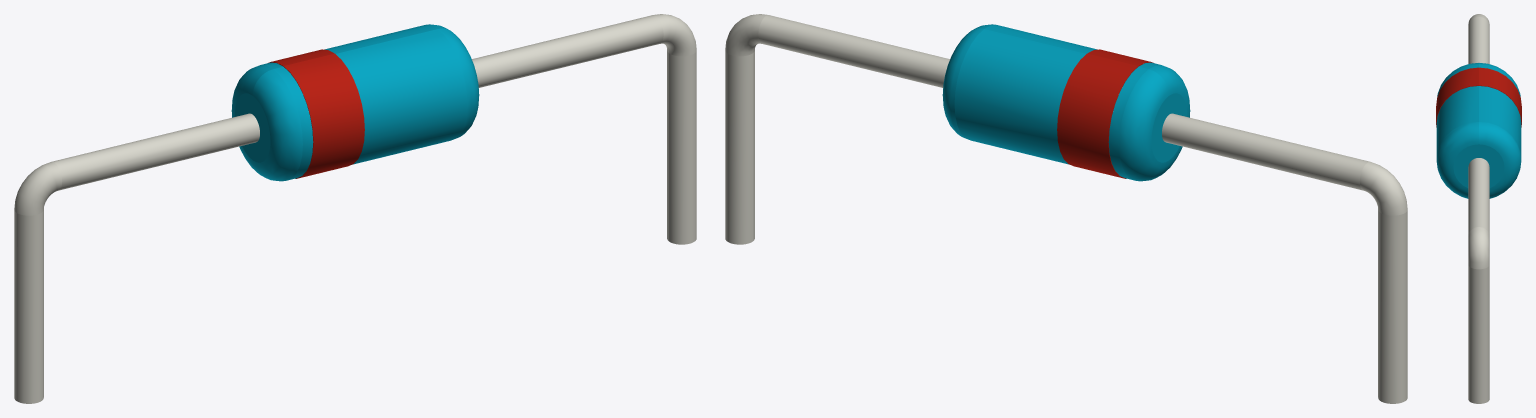
The model's file is kc-d_do-35_sod27_p12.70mm_horizontal.glb.
3 views of the same model, side by side, from view 1: azimuth 30°, elevation 25°; view 2: azimuth 150°, elevation 25°; view 3: azimuth 270°, elevation 25° (orthographic). The views are drawn at different scales.
Parts seen in each view (by area): view 1: 0.6666666666666666_0.6666666666666666_0.5833333333333334_0.8, 0_0.3333333333333333_0.5_0, 0.4166666666666667_0_0_0; view 2: 0.6666666666666666_0.6666666666666666_0.5833333333333334_0.8, 0_0.3333333333333333_0.5_0, 0.4166666666666667_0_0_0; view 3: 0_0.3333333333333333_0.5_0, 0.6666666666666666_0.6666666666666666_0.5833333333333334_0.8, 0.4166666666666667_0_0_0.
Boxes of the visible parts, <box> form: 0.6666666666666666_0.6666666666666666_0.5833333333333334_0.8: <box>14,14,696,403</box>; 0_0.3333333333333333_0.5_0: <box>231,24,479,181</box>; 0.4166666666666667_0_0_0: <box>268,49,364,178</box>; 0.6666666666666666_0.6666666666666666_0.5833333333333334_0.8: <box>725,14,1407,403</box>; 0_0.3333333333333333_0.5_0: <box>942,24,1190,181</box>; 0.4166666666666667_0_0_0: <box>1057,49,1153,178</box>; 0_0.3333333333333333_0.5_0: <box>1436,63,1521,198</box>; 0.6666666666666666_0.6666666666666666_0.5833333333333334_0.8: <box>1468,14,1489,403</box>; 0.4166666666666667_0_0_0: <box>1436,67,1521,127</box>.
Size of the model in its own units: 1.32 by 0.501 by 0.202.
